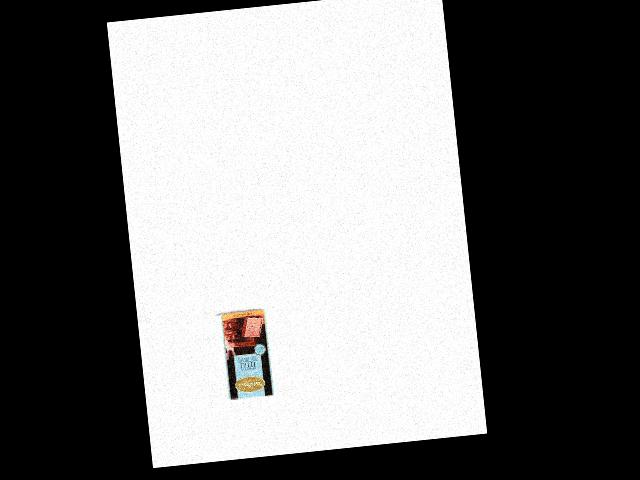chocolate: (218, 307, 275, 401)
